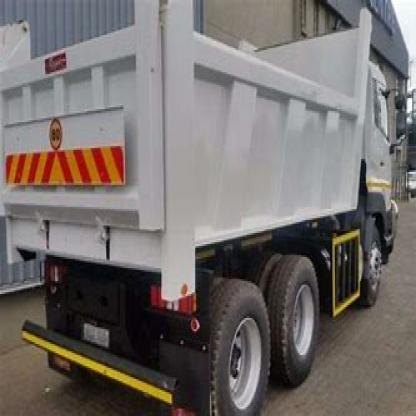dump_truck: (2, 0, 415, 414)
